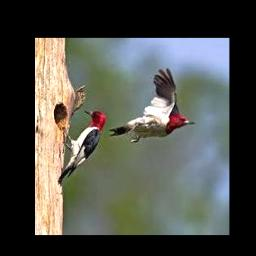Woodpecker: (109, 68, 195, 143), (58, 109, 107, 185)
